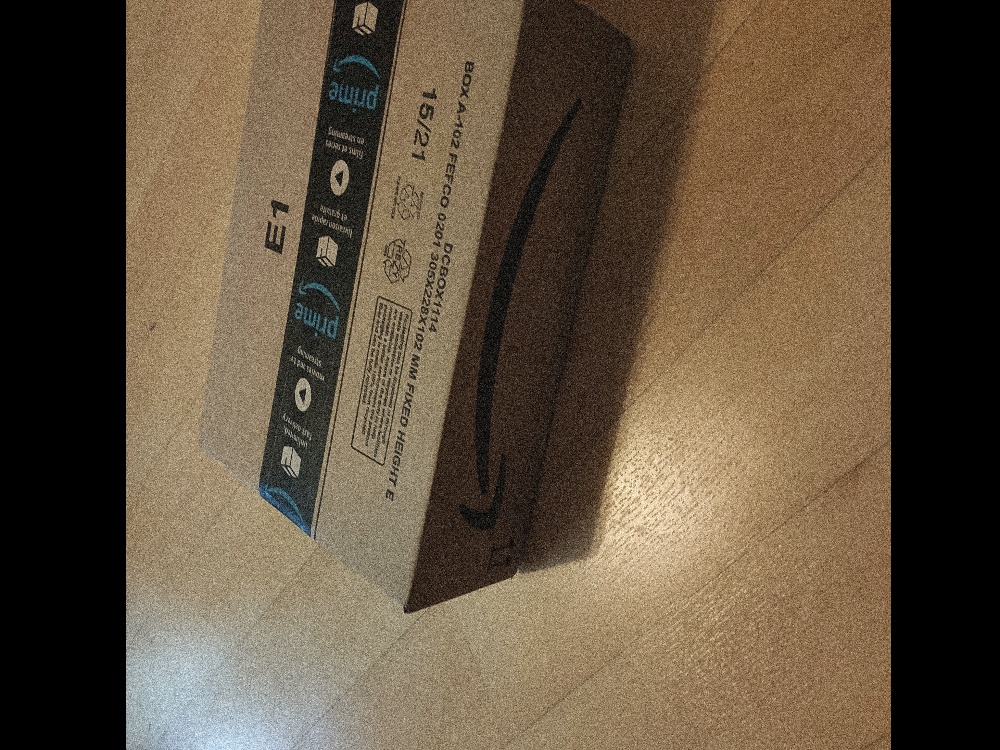good-parcel: (174, 0, 649, 619)
